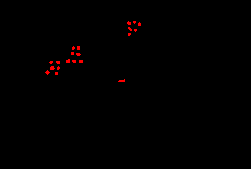Target: (45, 70, 50, 75), (118, 79, 125, 82), (50, 66, 55, 70), (127, 21, 131, 25), (128, 27, 132, 31), (66, 59, 70, 63), (76, 53, 81, 56), (138, 22, 141, 26), (72, 46, 75, 50), (77, 46, 80, 50), (72, 60, 76, 63), (79, 60, 83, 63), (49, 61, 53, 64), (56, 61, 60, 64), (57, 66, 60, 70), (133, 21, 136, 24), (134, 29, 137, 32), (128, 33, 131, 36), (71, 52, 74, 55), (55, 72, 58, 75)
